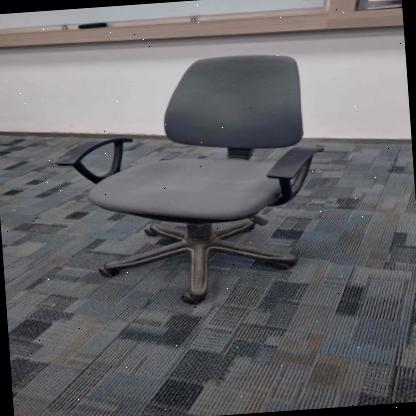chair: (46, 43, 329, 314)
